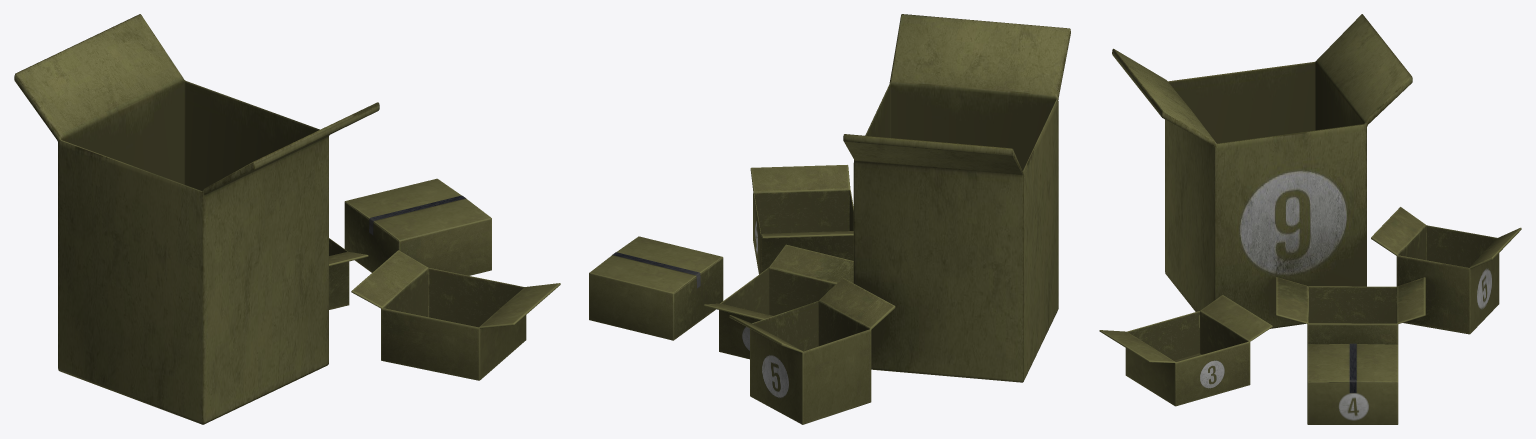
Rendered from korobka2.fbx.
The picture shows the model from 3 angles, left to right: view 1: azimuth 30°, elevation 25°; view 2: azimuth 150°, elevation 25°; view 3: azimuth 270°, elevation 25°; orthographic projection. The views are drawn at different scales.
Visible parts, largest first — view 1: Plane.001, Plane.004, Plane.005, Plane, Plane.006; view 2: Plane.001, Plane.002, Plane.005, Plane.004, Plane; view 3: Plane.001, Plane.004, Plane.002, Plane, Plane.005, Plane.006.
Part boxes in pixels (x1=…): Plane.001: x1=14, y1=14, x2=379, y2=424; Plane.004: x1=351, y1=250, x2=560, y2=380; Plane.005: x1=344, y1=178, x2=491, y2=275; Plane: x1=329, y1=238, x2=368, y2=309; Plane.006: x1=369, y1=195, x2=465, y2=235; Plane.001: x1=843, y1=14, x2=1070, y2=382; Plane.002: x1=729, y1=277, x2=895, y2=424; Plane.005: x1=589, y1=236, x2=723, y2=340; Plane.004: x1=750, y1=165, x2=853, y2=274; Plane: x1=704, y1=244, x2=853, y2=359; Plane.001: x1=1112, y1=14, x2=1412, y2=328; Plane.004: x1=1099, y1=295, x2=1272, y2=406; Plane.002: x1=1371, y1=207, x2=1521, y2=334; Plane: x1=1276, y1=277, x2=1425, y2=344; Plane.005: x1=1307, y1=344, x2=1398, y2=424; Plane.006: x1=1349, y1=343, x2=1356, y2=392.
Bounding box in the file's own units: 936 × 566 × 929.
6 materials, 6 textured.
